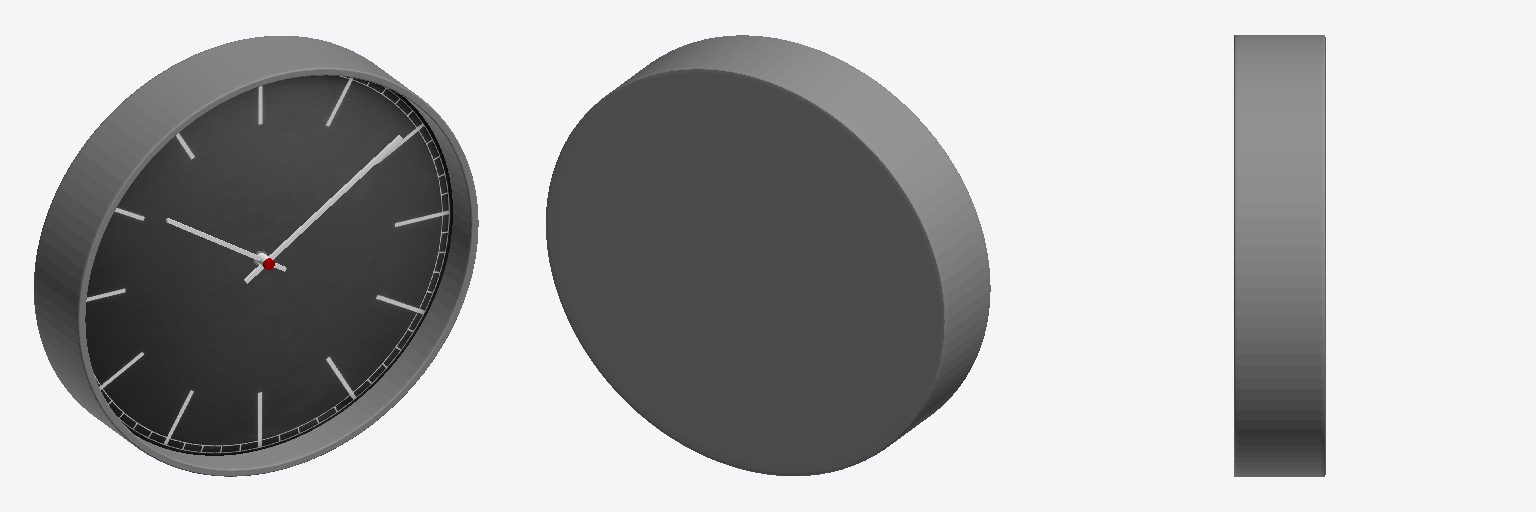
3 views of the same model, side by side, from view 1: azimuth 30°, elevation 25°; view 2: azimuth 150°, elevation 25°; view 3: azimuth 270°, elevation 25° (orthographic).
Bounding box in the file's own units: 4.98 × 4.72 × 0.9856.
4 materials, 1 textured.